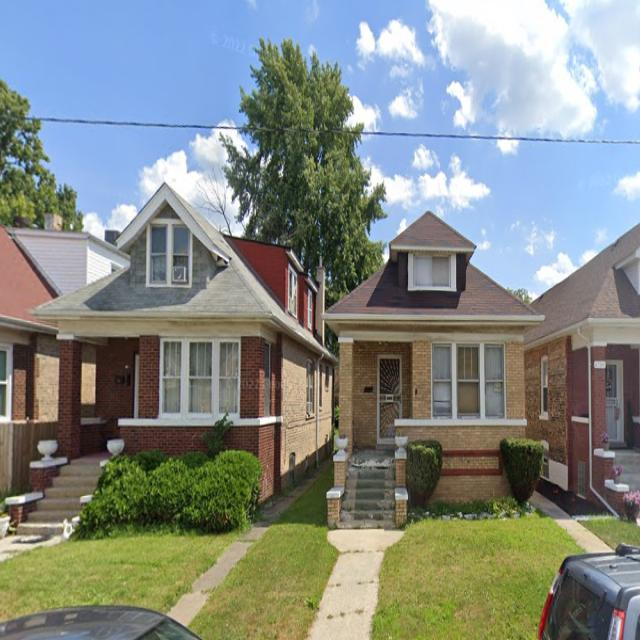House: (0, 180, 335, 537), (330, 211, 543, 523), (526, 225, 640, 513)
